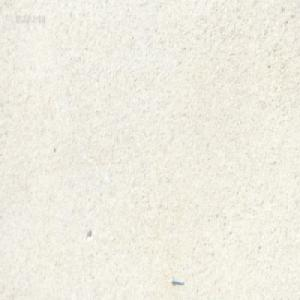Nail: (171, 276, 183, 284)
